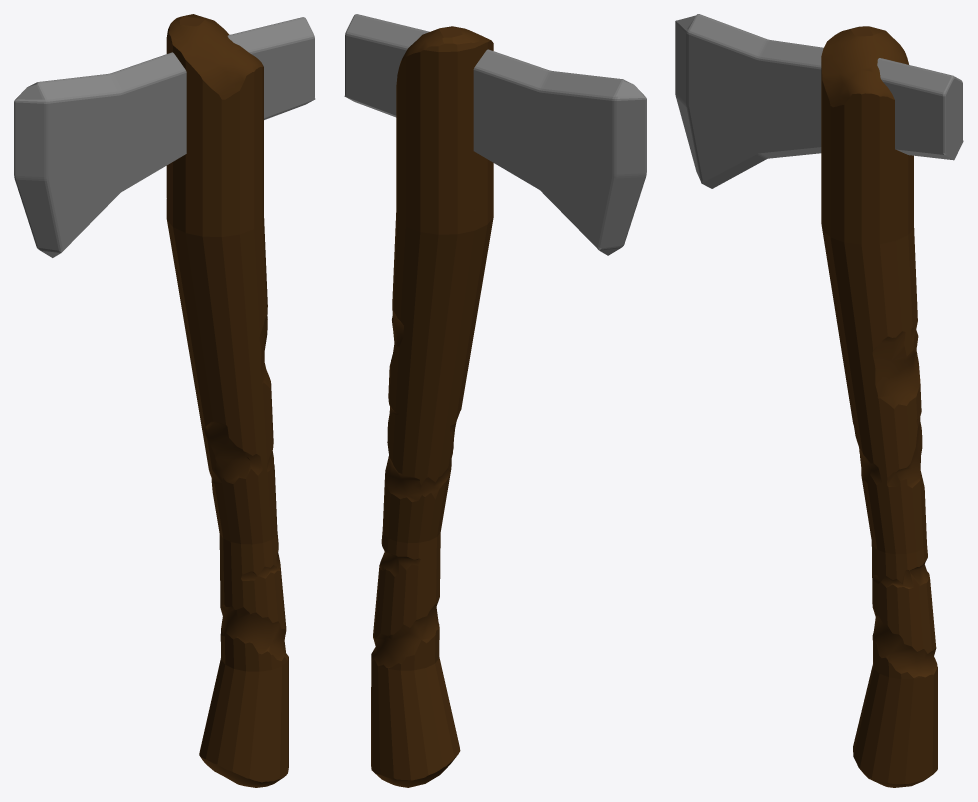
File: Axe.fbx
3 renders of one model, left to right at view 1: azimuth 30°, elevation 25°; view 2: azimuth 150°, elevation 25°; view 3: azimuth 330°, elevation 25°, orthographic. The views are drawn at different scales.
Visible parts, largest first — view 1: handle, AxeHead; view 2: handle, AxeHead; view 3: handle, AxeHead.
Part boxes in pixels (box(x1,y1,x2,y2)): handle: box(166, 14, 288, 787); AxeHead: box(14, 17, 315, 257); handle: box(371, 26, 493, 787); AxeHead: box(344, 14, 646, 255); handle: box(821, 26, 937, 787); AxeHead: box(675, 14, 963, 188).
Size of the model in its own units: 41.25 by 103 by 12.
